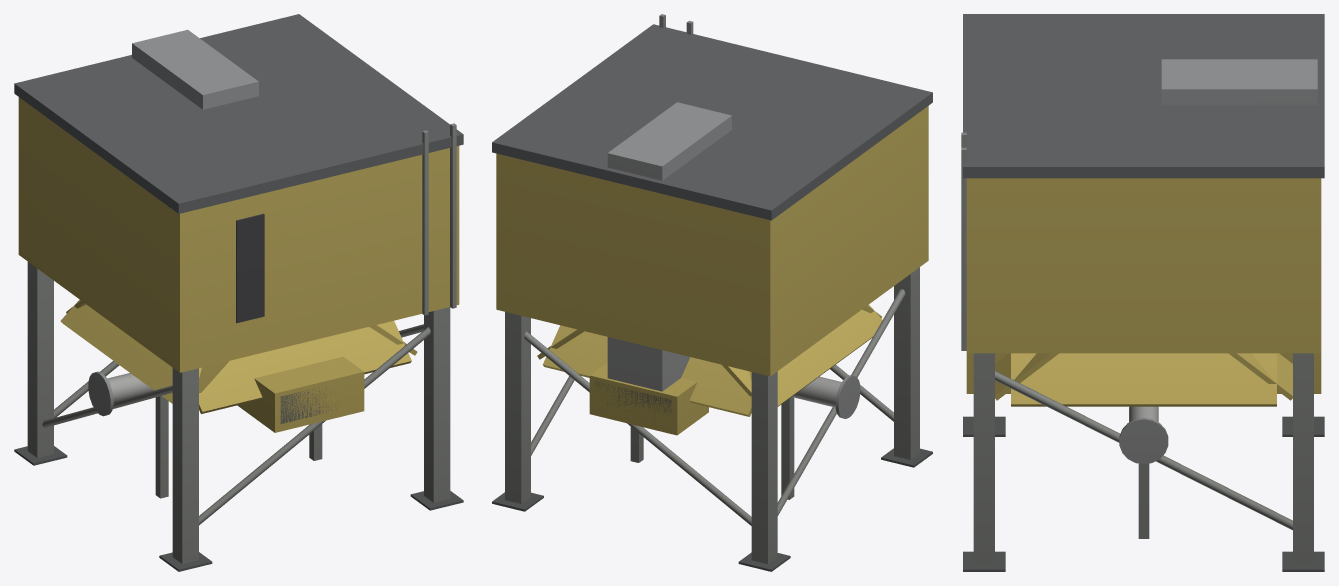
File: lgHopper_steel.glb
3 renders of one model, left to right at view 1: azimuth 30°, elevation 25°; view 2: azimuth 150°, elevation 25°; view 3: azimuth 270°, elevation 25°, orthographic. The views are drawn at different scales.
Visible parts, largest first — view 1: lgHopper_steel; view 2: lgHopper_steel; view 3: lgHopper_steel.
Part boxes in pixels (left/top/right/bottom): lgHopper_steel: left=14, top=14, right=463, bottom=571; lgHopper_steel: left=492, top=14, right=932, bottom=571; lgHopper_steel: left=961, top=14, right=1324, bottom=571.
Bounding box in the file's own units: 2.04 × 2.62 × 2.05.
